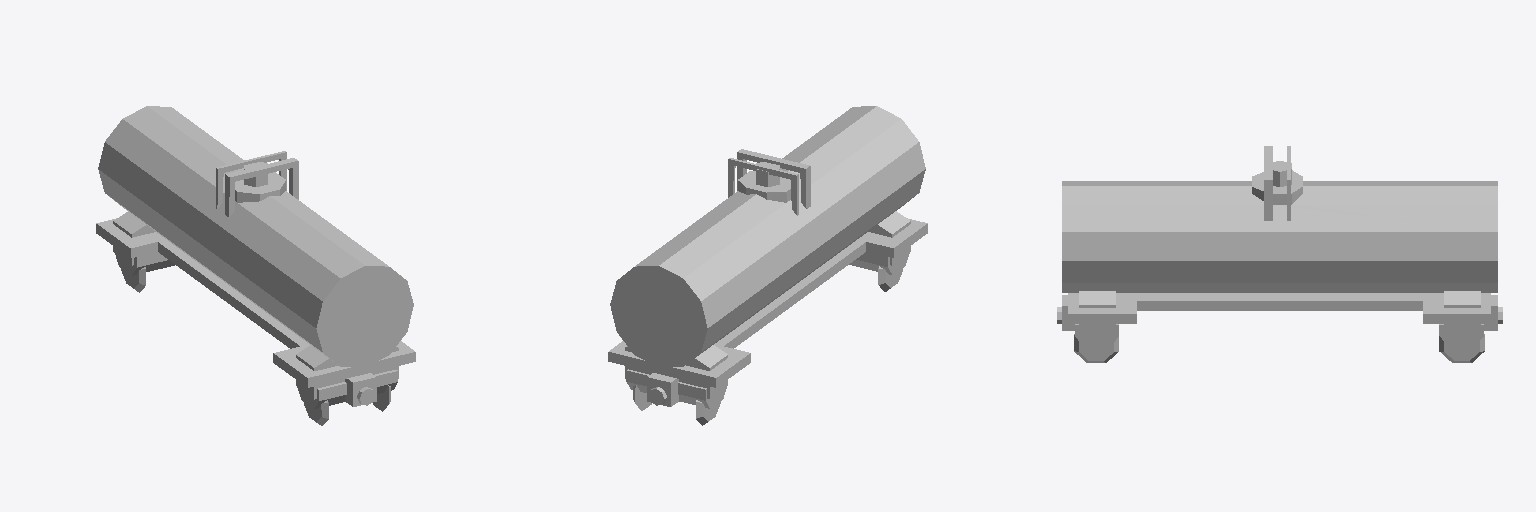
The model's file is SM_Veh_Carriage_Cylinder_03.obj.
3 renders of one model, left to right at view 1: azimuth 30°, elevation 25°; view 2: azimuth 150°, elevation 25°; view 3: azimuth 270°, elevation 25°, orthographic.
Visible parts, largest first — view 1: SM_Veh_Carriage_Cylinder_03:Mesh; view 2: SM_Veh_Carriage_Cylinder_03:Mesh; view 3: SM_Veh_Carriage_Cylinder_03:Mesh.
Boxes of the visible parts, <box> form: SM_Veh_Carriage_Cylinder_03:Mesh: <box>96,106,415,425</box>; SM_Veh_Carriage_Cylinder_03:Mesh: <box>608,106,927,425</box>; SM_Veh_Carriage_Cylinder_03:Mesh: <box>1057,146,1502,362</box>.
Size of the model in its own units: 4.6 by 7.54 by 16.45.